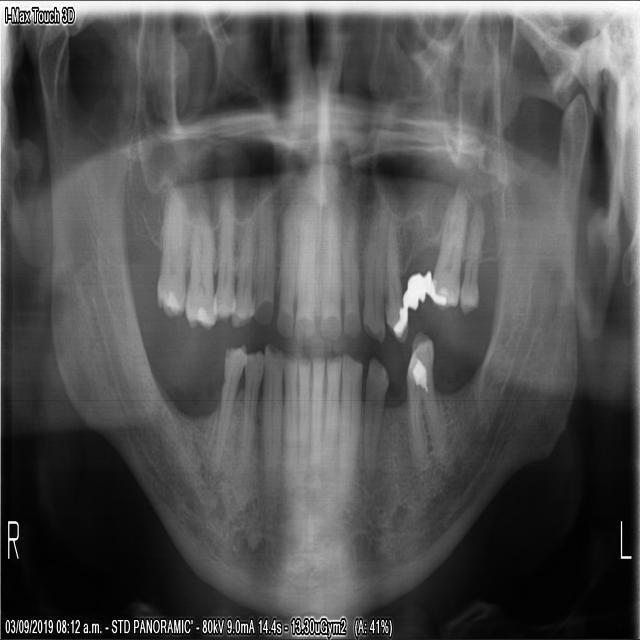LCD: (336, 347, 362, 506)
LID: (321, 350, 338, 493), (307, 349, 325, 484)
LIU: (315, 188, 341, 342), (338, 186, 359, 339)
LMU: (425, 177, 467, 313), (455, 199, 484, 320)
LPMD: (359, 346, 388, 492)
LPMU: (359, 188, 386, 341), (381, 200, 407, 345)
RCD: (260, 335, 282, 515)
RID: (280, 349, 295, 501), (295, 348, 309, 501)
RIU: (272, 180, 298, 338), (291, 190, 317, 343)
RMU: (179, 184, 216, 334), (152, 175, 187, 324)
RPMD: (209, 334, 246, 464), (234, 344, 261, 478)
RPMU: (225, 186, 256, 328), (208, 171, 235, 321)
